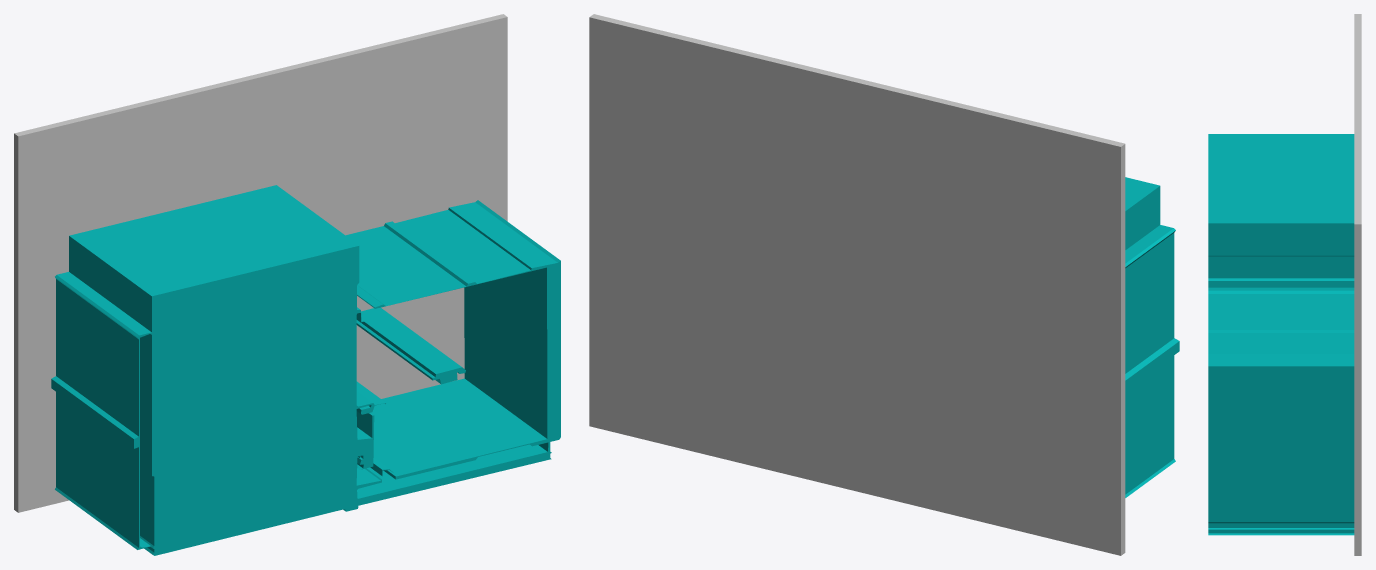
3 renders of one model, left to right at view 1: azimuth 30°, elevation 25°; view 2: azimuth 150°, elevation 25°; view 3: azimuth 270°, elevation 25°, orthographic. The views are drawn at different scales.
Visible parts, largest first — view 1: world; view 2: world; view 3: world.
Boxes of the visible parts, x1,y1,x2,y2 form: world: [14, 14, 560, 555]; world: [589, 14, 1179, 555]; world: [1208, 14, 1361, 555].
Bounding box in the file's own units: 10.23 × 7.52 × 3.15.
